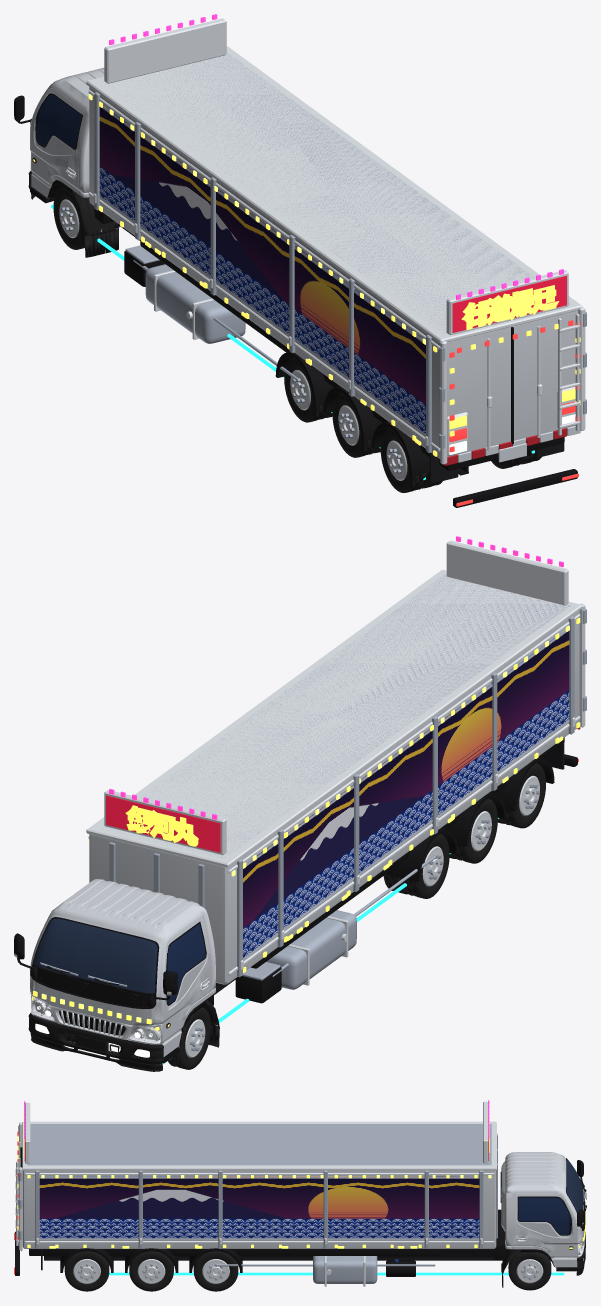
File: dekotora_truck_longo_curta.glb
The picture shows the model from 3 angles, top to bottom: view 1: azimuth 30°, elevation 25°; view 2: azimuth 150°, elevation 25°; view 3: azimuth 270°, elevation 25°; orthographic projection. The views are drawn at different scales.
Parts seen in each view (by area): view 1: truck_chrome, truck_mural, truck_paint_white_panel, truck_steel, truck_plastic_black, truck_lamp_amber, truck_glass, wheel_r_L_1.5_1.06, wheel_r_L_3.0_1.06, wheel_r_L_4.5_1.06, truck_rubber, truck_andon_panel (+5 smaller); view 2: truck_chrome, truck_mural, truck_paint_white_panel, truck_steel, truck_plastic_black, truck_glass_wind, truck_plastic_trim, truck_lamp_amber, truck_andon_panel, wheel_r_L_3.0_1.06, wheel_f_L, wheel_r_L_1.5_1.06 (+2 smaller); view 3: truck_mural, truck_steel, truck_paint_white_panel, truck_chrome, truck_plastic_black, wheel_r_R_1.5_1.06, wheel_r_R_3.0_1.06, wheel_r_R_4.5_1.06, wheel_f_R, truck_glass, truck_lamp_cyan, truck_lamp_amber (+3 smaller).
Boxes of the visible parts, bbox=[...] form: truck_chrome: bbox=[30, 18, 585, 464]; truck_mural: bbox=[99, 106, 425, 436]; truck_paint_white_panel: bbox=[30, 67, 578, 458]; truck_steel: bbox=[94, 54, 586, 453]; truck_plastic_black: bbox=[14, 84, 577, 507]; truck_lamp_amber: bbox=[33, 101, 580, 456]; truck_glass: bbox=[37, 94, 81, 148]; wheel_r_L_1.5_1.06: bbox=[380, 428, 427, 492]; wheel_r_L_3.0_1.06: bbox=[332, 392, 376, 457]; wheel_r_L_4.5_1.06: bbox=[284, 357, 328, 422]; truck_rubber: bbox=[85, 228, 564, 483]; truck_andon_panel: bbox=[452, 276, 566, 332]; truck_chrome: bbox=[15, 540, 585, 1044]; truck_mural: bbox=[243, 630, 569, 960]; truck_paint_white_panel: bbox=[30, 611, 579, 1056]; truck_steel: bbox=[40, 574, 586, 1026]; truck_plastic_black: bbox=[14, 737, 577, 1063]; truck_glass_wind: bbox=[34, 918, 157, 993]; truck_plastic_trim: bbox=[28, 999, 219, 1071]; truck_lamp_amber: bbox=[31, 618, 580, 1030]; truck_andon_panel: bbox=[106, 795, 220, 852]; wheel_r_L_3.0_1.06: bbox=[453, 798, 497, 863]; wheel_f_L: bbox=[168, 1007, 210, 1069]; wheel_r_L_1.5_1.06: bbox=[501, 763, 545, 828]; truck_mural: bbox=[39, 1176, 479, 1239]; truck_steel: bbox=[18, 1124, 584, 1283]; truck_paint_white_panel: bbox=[22, 1152, 584, 1267]; truck_chrome: bbox=[15, 1101, 585, 1286]; truck_plastic_black: bbox=[15, 1147, 586, 1276]; wheel_r_R_1.5_1.06: bbox=[64, 1251, 109, 1291]; wheel_r_R_3.0_1.06: bbox=[129, 1251, 173, 1291]; wheel_r_R_4.5_1.06: bbox=[193, 1251, 238, 1291]; wheel_f_R: bbox=[508, 1249, 551, 1290]; truck_glass: bbox=[518, 1197, 569, 1234]; truck_lamp_cyan: bbox=[109, 1272, 564, 1275]; truck_lamp_amber: bbox=[17, 1112, 585, 1248].
Size of the model in its own units: 2.91 by 3.91 by 13.33.
Materials: 22 (6 with a texture image).
